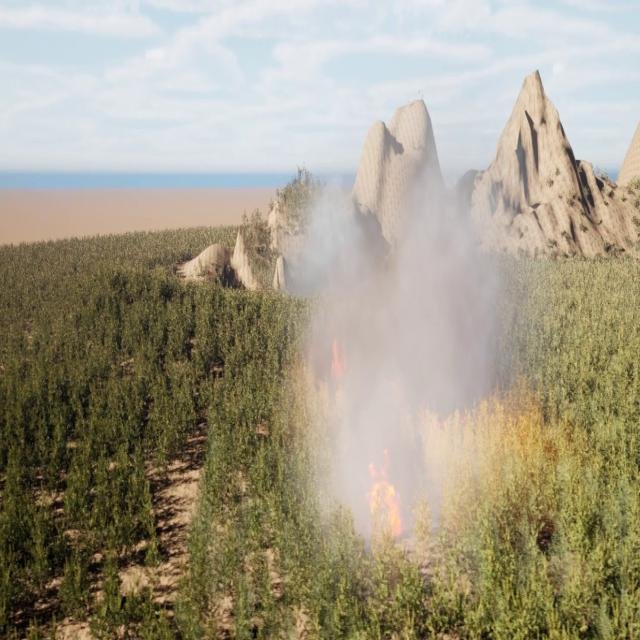fire: (363, 442, 406, 546), (328, 338, 354, 399)
smoke: (282, 136, 537, 565)
